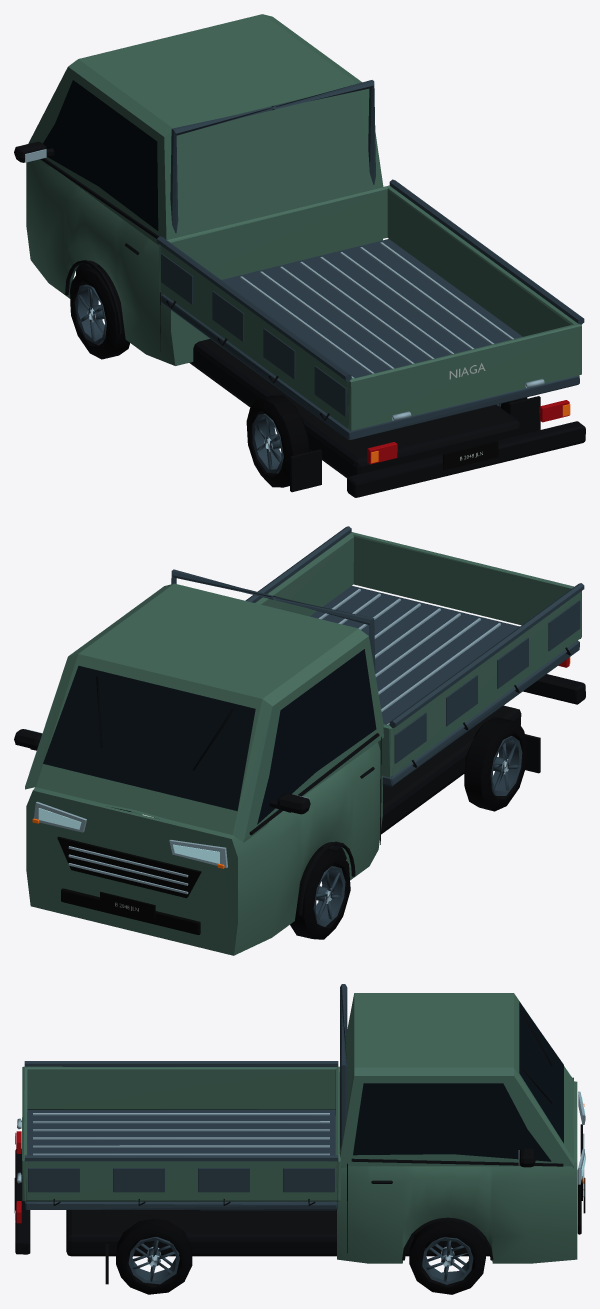
File: utility_pickup_forest_lod1.glb
The picture shows the model from 3 angles, top to bottom: view 1: azimuth 30°, elevation 25°; view 2: azimuth 150°, elevation 25°; view 3: azimuth 270°, elevation 25°; orthographic projection. The views are drawn at different scales.
Parts seen in each view (by area): view 1: Body_Mesh, Wheel_RL_Mesh, Wheel_FL_Mesh, TailLights_Mesh; view 2: Body_Mesh, Wheel_RL_Mesh, Wheel_FL_Mesh, Headlights_Mesh; view 3: Body_Mesh, Wheel_RR_Mesh, Wheel_FR_Mesh.
Part boxes in pixels (x1=…): Body_Mesh: x1=14, y1=14, x2=585, y2=497; Wheel_RL_Mesh: x1=246, y1=395, x2=310, y2=487; Wheel_FL_Mesh: x1=70, y1=265, x2=129, y2=359; TailLights_Mesh: x1=367, y1=400, x2=569, y2=464; Body_Mesh: x1=14, y1=526, x2=585, y2=955; Wheel_RL_Mesh: x1=464, y1=717, x2=527, y2=811; Wheel_FL_Mesh: x1=290, y1=846, x2=350, y2=939; Headlights_Mesh: x1=34, y1=801, x2=227, y2=868; Body_Mesh: x1=14, y1=984, x2=585, y2=1284; Wheel_RR_Mesh: x1=116, y1=1218, x2=192, y2=1294; Wheel_FR_Mesh: x1=409, y1=1218, x2=485, y2=1294.
Size of the model in its own units: 2.1 by 1.85 by 4.3.
2 materials, 1 textured.
